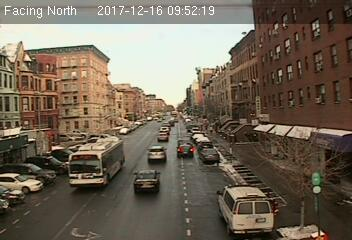bus: (70, 136, 126, 187)
car: (133, 169, 161, 192), (145, 145, 169, 161), (200, 147, 220, 161), (177, 144, 193, 157), (156, 132, 169, 142)
police: (214, 181, 273, 235)
